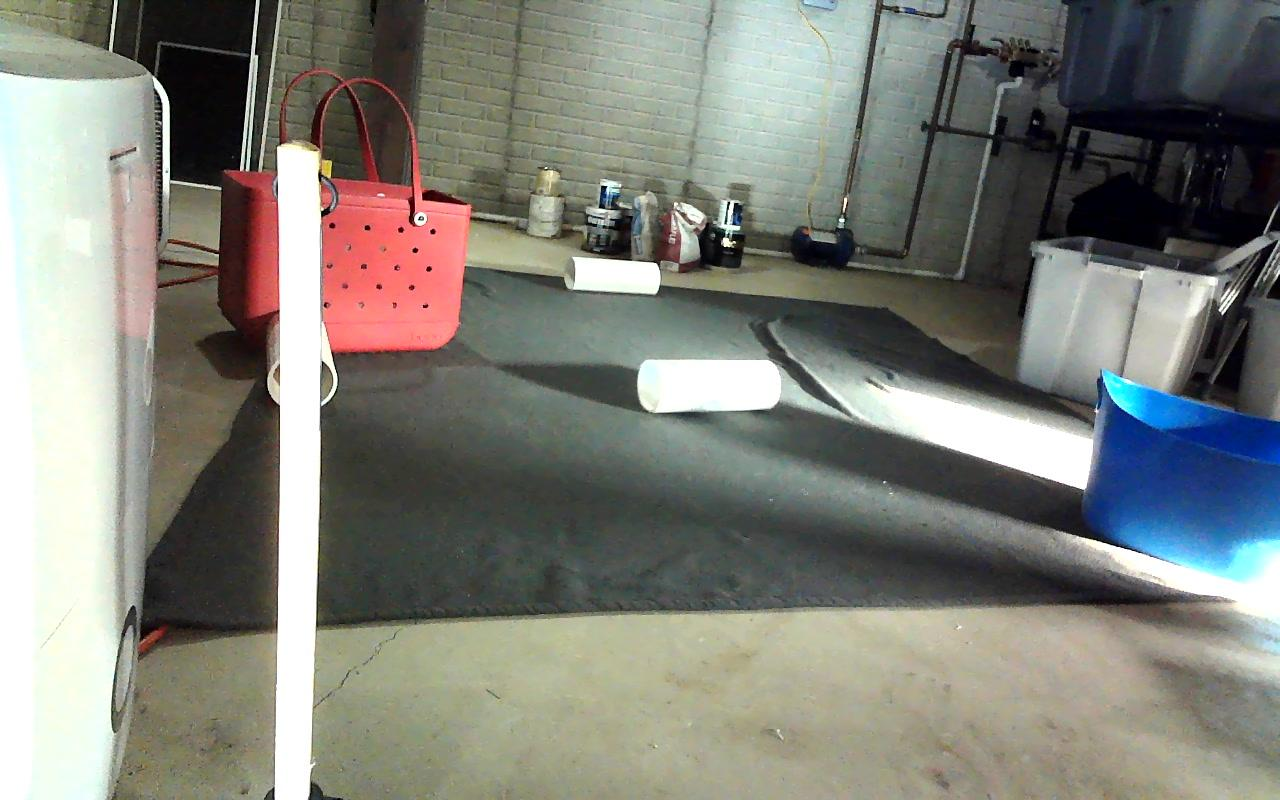coral: (637, 356, 781, 413), (267, 311, 336, 407), (567, 254, 661, 295)
